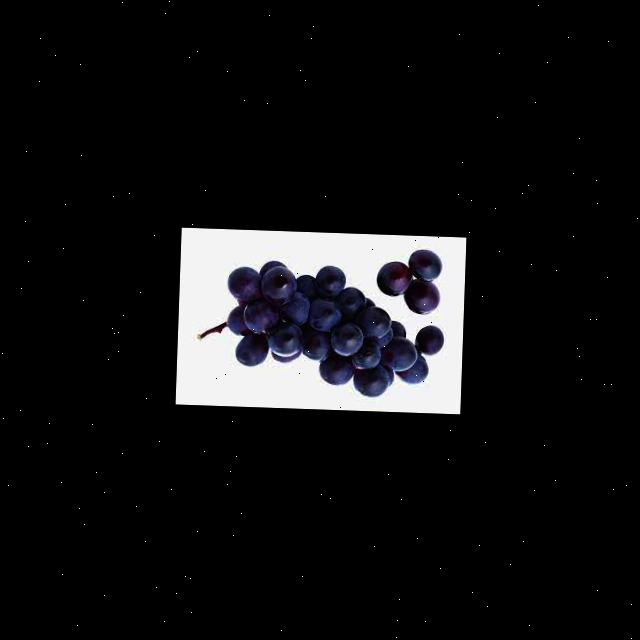grape: (195, 242, 447, 400)
